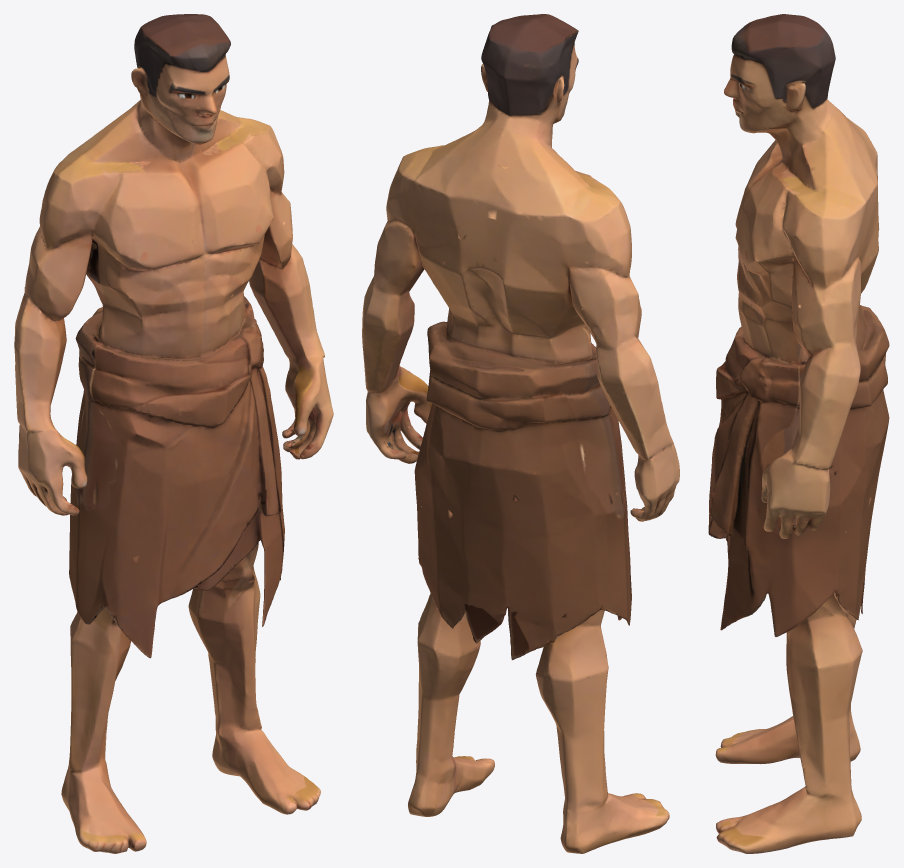
The model's file is I_want_a_low_poly_hum_0725223158_texture.fbx.
3 views of the same model, side by side, from view 1: azimuth 30°, elevation 25°; view 2: azimuth 150°, elevation 25°; view 3: azimuth 270°, elevation 25° (orthographic).
Visible parts, largest first — view 1: input; view 2: input; view 3: input.
Part boxes in pixels (x1,y1,x2,y2): input: (14, 14, 333, 853); input: (362, 14, 679, 853); input: (708, 14, 889, 853).
Bounding box in the file's own units: 78.72 × 200 × 42.09.
1 material, 1 textured.
